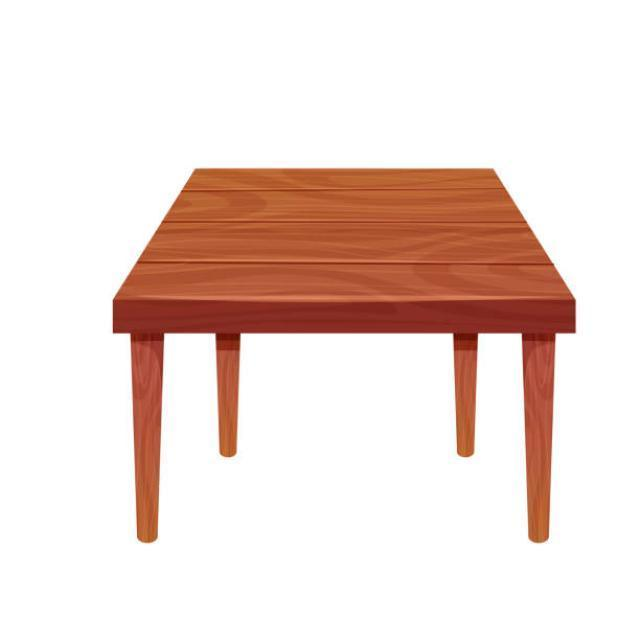table: (111, 165, 576, 545)
